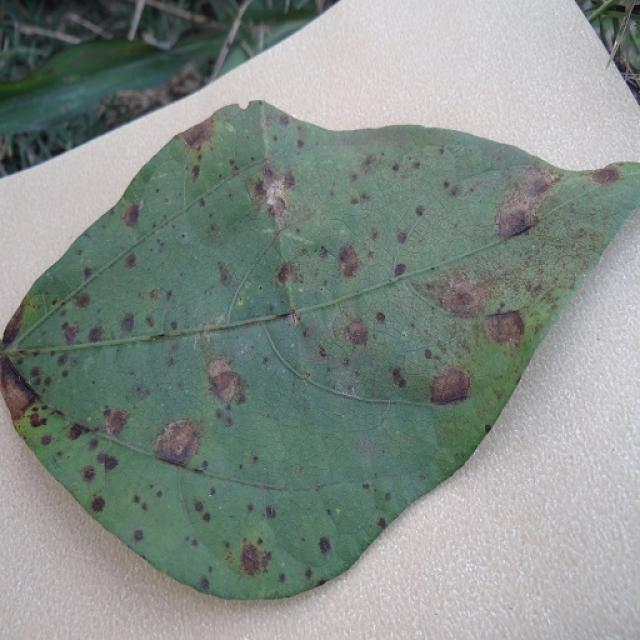Anthracnose: (494, 165, 558, 239), (0, 354, 57, 431), (197, 350, 258, 418), (152, 418, 202, 467), (256, 163, 293, 226), (427, 365, 473, 406), (481, 309, 528, 348), (440, 281, 483, 316), (179, 115, 216, 151), (2, 301, 27, 344), (239, 541, 268, 576), (102, 406, 131, 438), (353, 433, 383, 463), (337, 244, 362, 279), (591, 163, 622, 185), (344, 319, 369, 346), (245, 177, 268, 206), (121, 201, 141, 229), (96, 451, 120, 473), (275, 262, 295, 286), (260, 159, 279, 184), (347, 190, 374, 207), (217, 261, 235, 286), (66, 422, 89, 441), (62, 322, 80, 345), (131, 382, 151, 402), (72, 290, 92, 309), (391, 367, 407, 389), (120, 312, 135, 334), (87, 325, 104, 344), (90, 495, 106, 513), (286, 309, 301, 328), (360, 154, 376, 171), (282, 170, 296, 189), (81, 466, 97, 482), (124, 252, 138, 269), (318, 537, 332, 554), (147, 287, 161, 302), (393, 263, 407, 278), (396, 230, 408, 245), (82, 266, 94, 281), (191, 164, 201, 182), (317, 245, 329, 259), (192, 499, 204, 513), (317, 345, 329, 359), (133, 528, 144, 542), (265, 505, 276, 519), (375, 311, 386, 324), (415, 204, 426, 217), (279, 114, 290, 127), (423, 348, 433, 359), (202, 511, 211, 522), (391, 162, 400, 173), (349, 196, 359, 205)
Blackgram: (0, 104, 639, 598)
